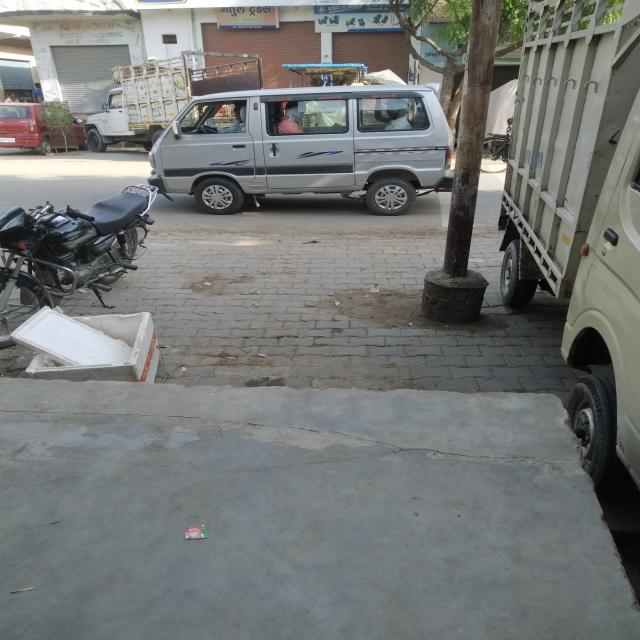Car: (0, 102, 63, 155), (68, 118, 85, 148)
Truck: (500, 0, 640, 485)
Two Wheeler: (0, 184, 157, 300)
